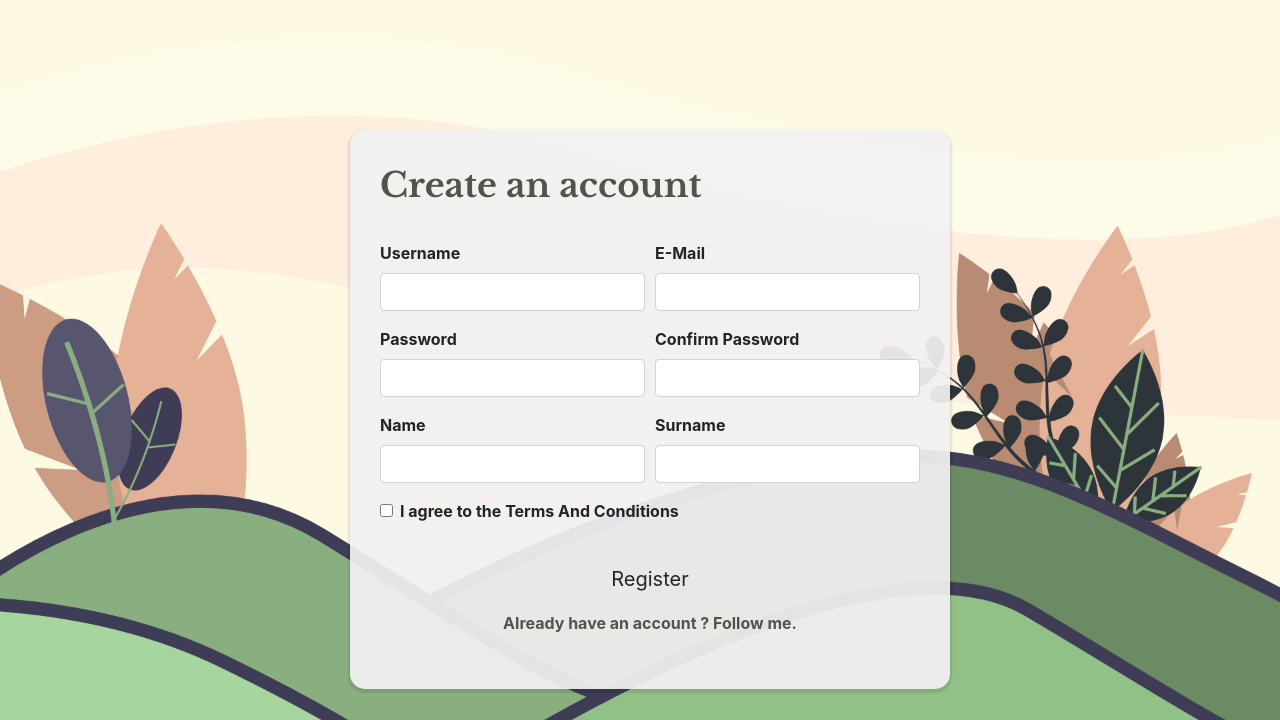
Test: handleChange works correctly and sends error message for wrong Username
The width and height of the screenshot is (1280, 720).
In the field named "Username": x=512, y=292 [380,273,645,311], type "t"
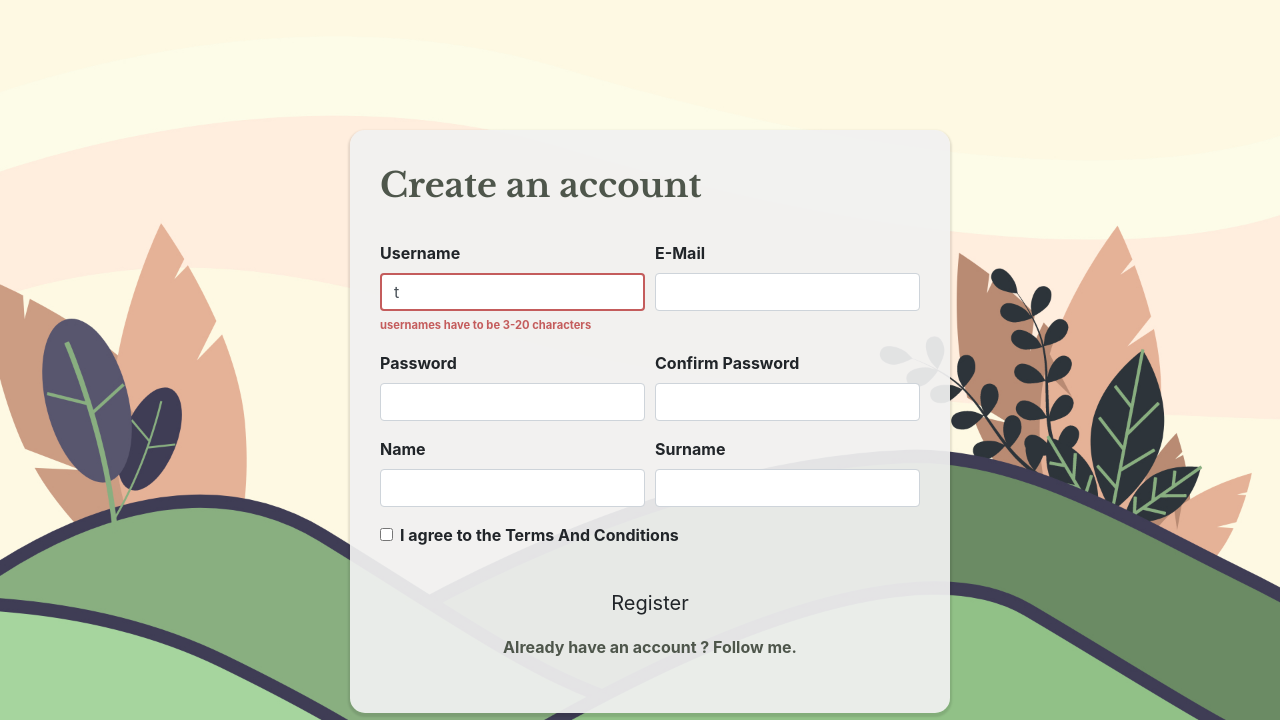
Check: the element with test id "usernameError" reads "usernames have to be 3-20 characters", box [380,318,591,332]
